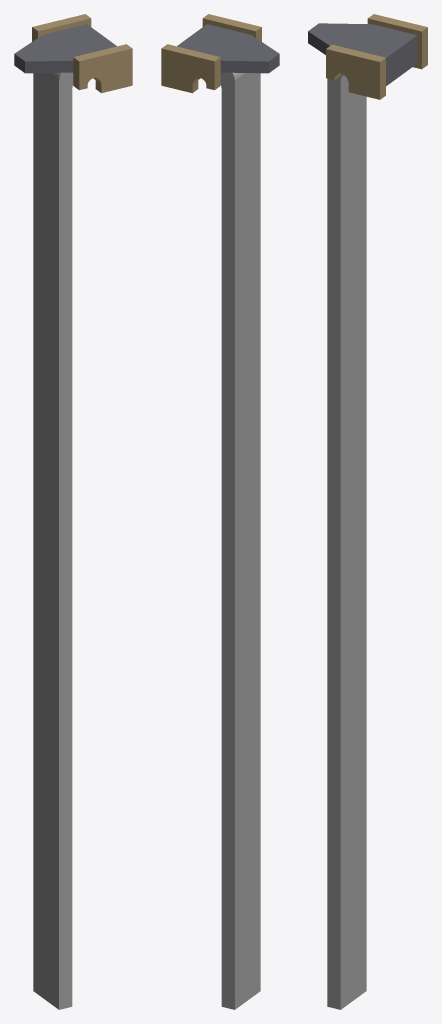
The model's file is DecoracionCascada.fbx.
3 renders of one model, left to right at view 1: azimuth 30°, elevation 25°; view 2: azimuth 150°, elevation 25°; view 3: azimuth 330°, elevation 25°, orthographic.
Parts seen in each view (by area): view 1: pCube2, pCube1; view 2: pCube2, pCube1; view 3: pCube2, pCube1.
Boxes of the visible parts, <box> form: pCube2: <box>33,72,73,1009</box>; pCube1: <box>14,14,132,93</box>; pCube2: <box>220,72,260,1009</box>; pCube1: <box>161,14,279,93</box>; pCube2: <box>327,73,366,1009</box>; pCube1: <box>308,14,427,99</box>.
Size of the model in its own units: 201 by 2052 by 184.
